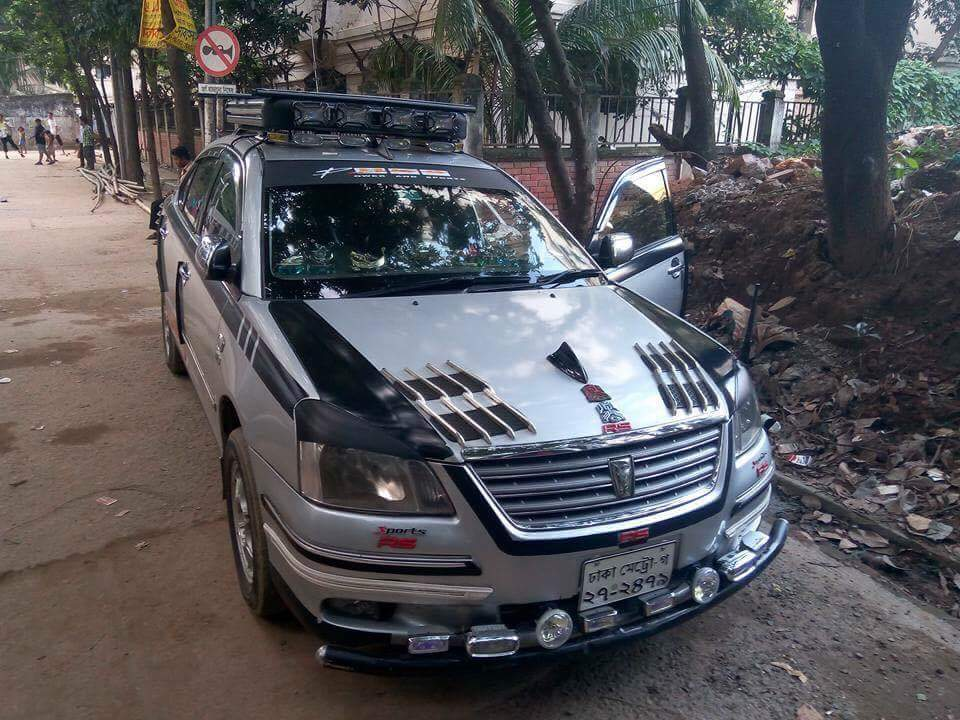registration_plate: (578, 539, 677, 612)
